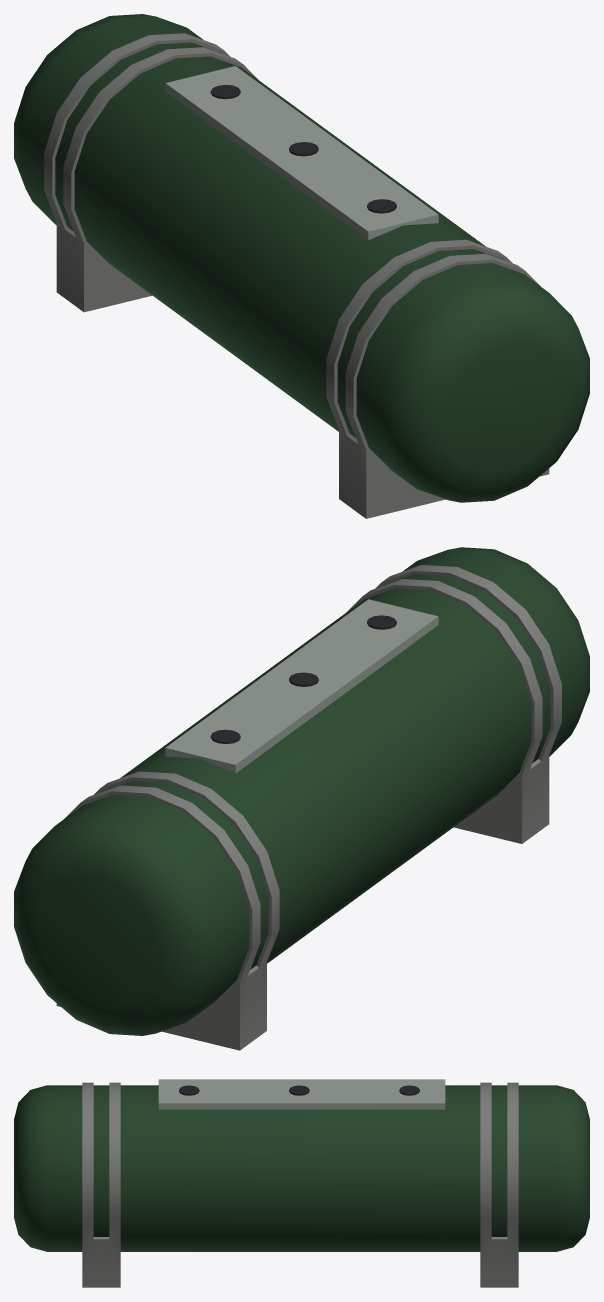
File: OilCistern_1.fbx
The picture shows the model from 3 angles, top to bottom: view 1: azimuth 30°, elevation 25°; view 2: azimuth 150°, elevation 25°; view 3: azimuth 270°, elevation 25°; orthographic projection. The views are drawn at different scales.
Parts seen in each view (by area): view 1: OilCistern_1; view 2: OilCistern_1; view 3: OilCistern_1.
Boxes of the visible parts, x1=… form: OilCistern_1: x1=14, y1=14, x2=589, y2=518; OilCistern_1: x1=14, y1=547, x2=589, y2=1050; OilCistern_1: x1=14, y1=1079, x2=589, y2=1287.
Size of the model in its own units: 180 by 195 by 612.
